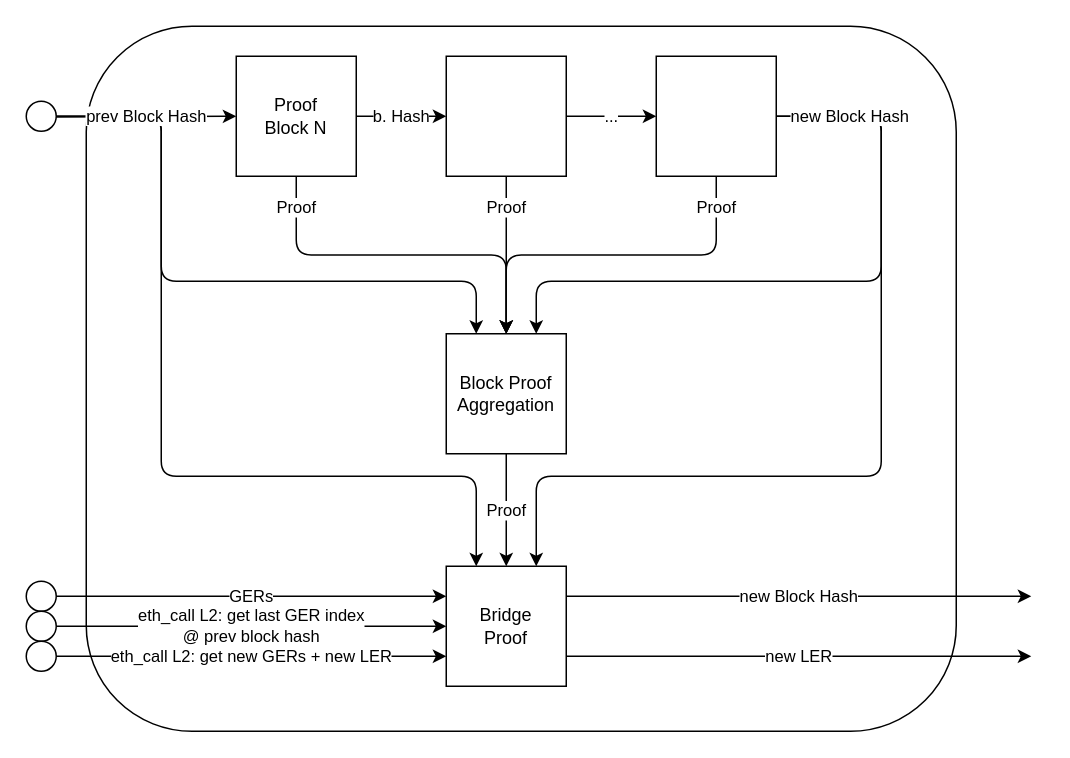
This 1070x758 diagram has some shape labels left out. The shapes that lost their labels are listed below. From the top down, each one's box as (x1, y1, x2, y2) in pixels, then its label:
(445, 55, 566, 176): Proof Block N+1
(655, 55, 776, 176): Proof Block N+M
